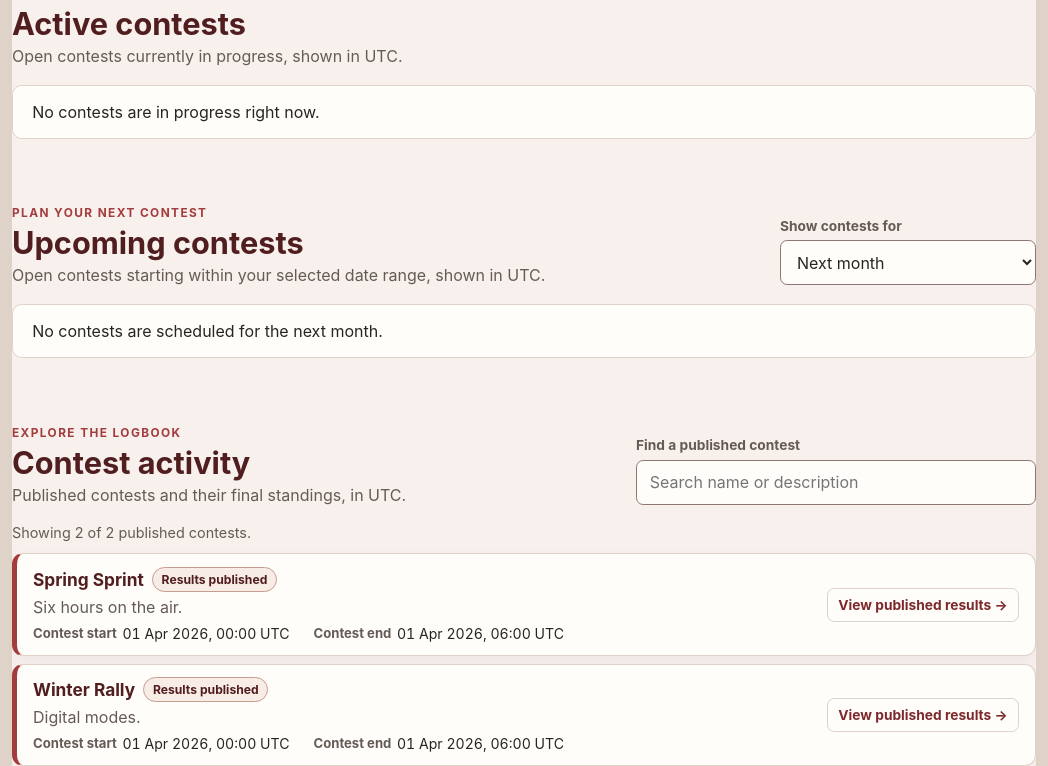
HomeView public contest activity › filters available public contests by name or description
The image size is (1048, 766).
(page scrolled)
Type "digital modes" into the search field with id "contest-search" at (836, 482), box [636,460,1036,504]
(page scrolled)
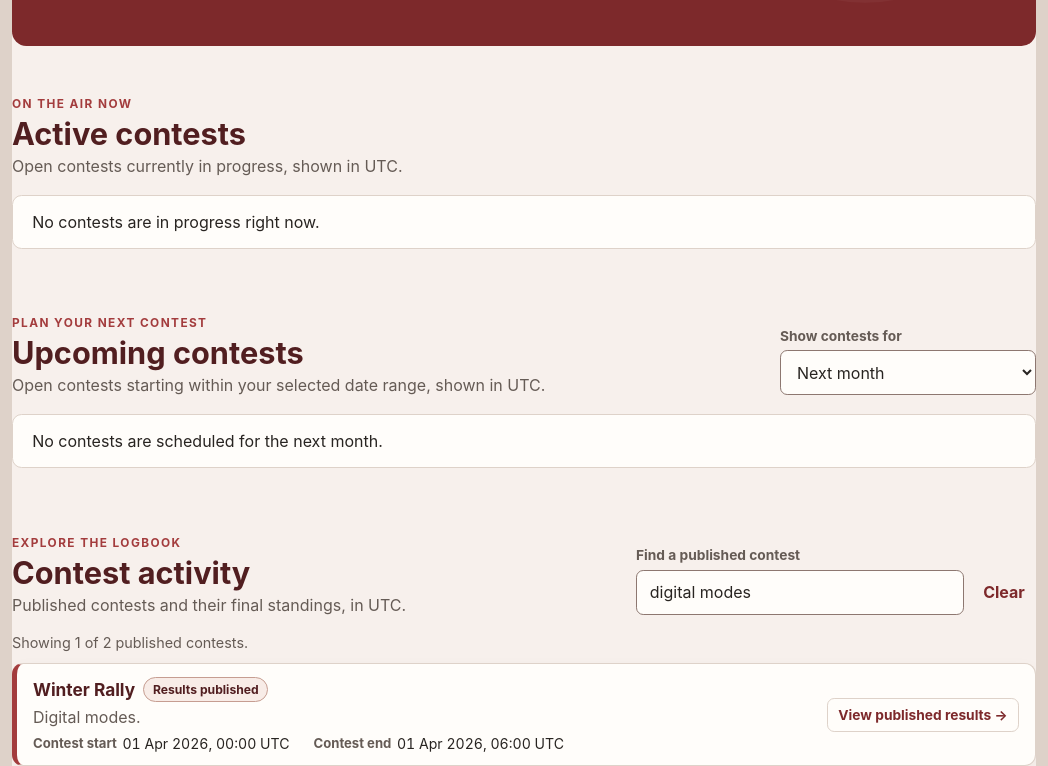
Expected: the text "Winter Rally" is shown, [33,679,135,700]
Now the text "Spring Sprint" is gone
Now the text "Showing 1 of 2 published contests." is shown, box [12,634,248,651]
